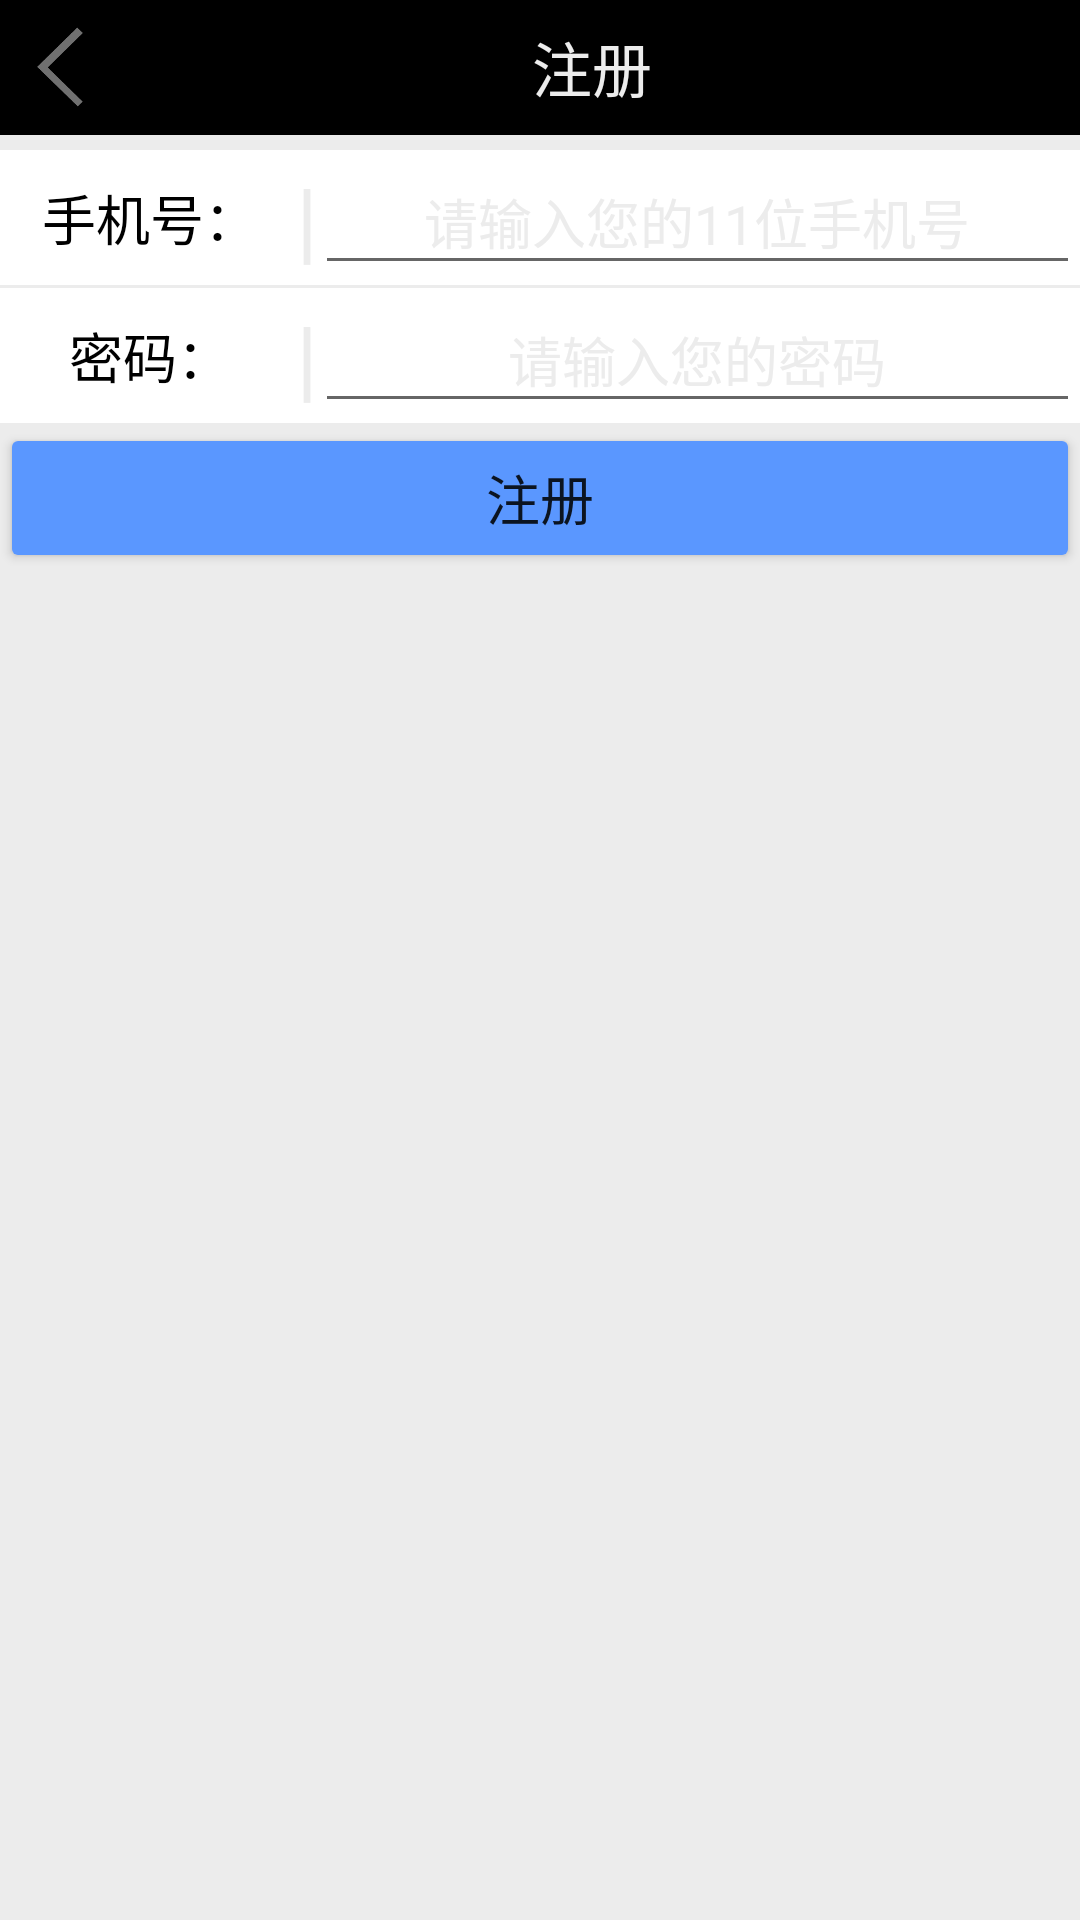

Point at icon controls on the screen. Image size 1080 × 1920, points as point (x, y).
leftdir: point (60, 67)
